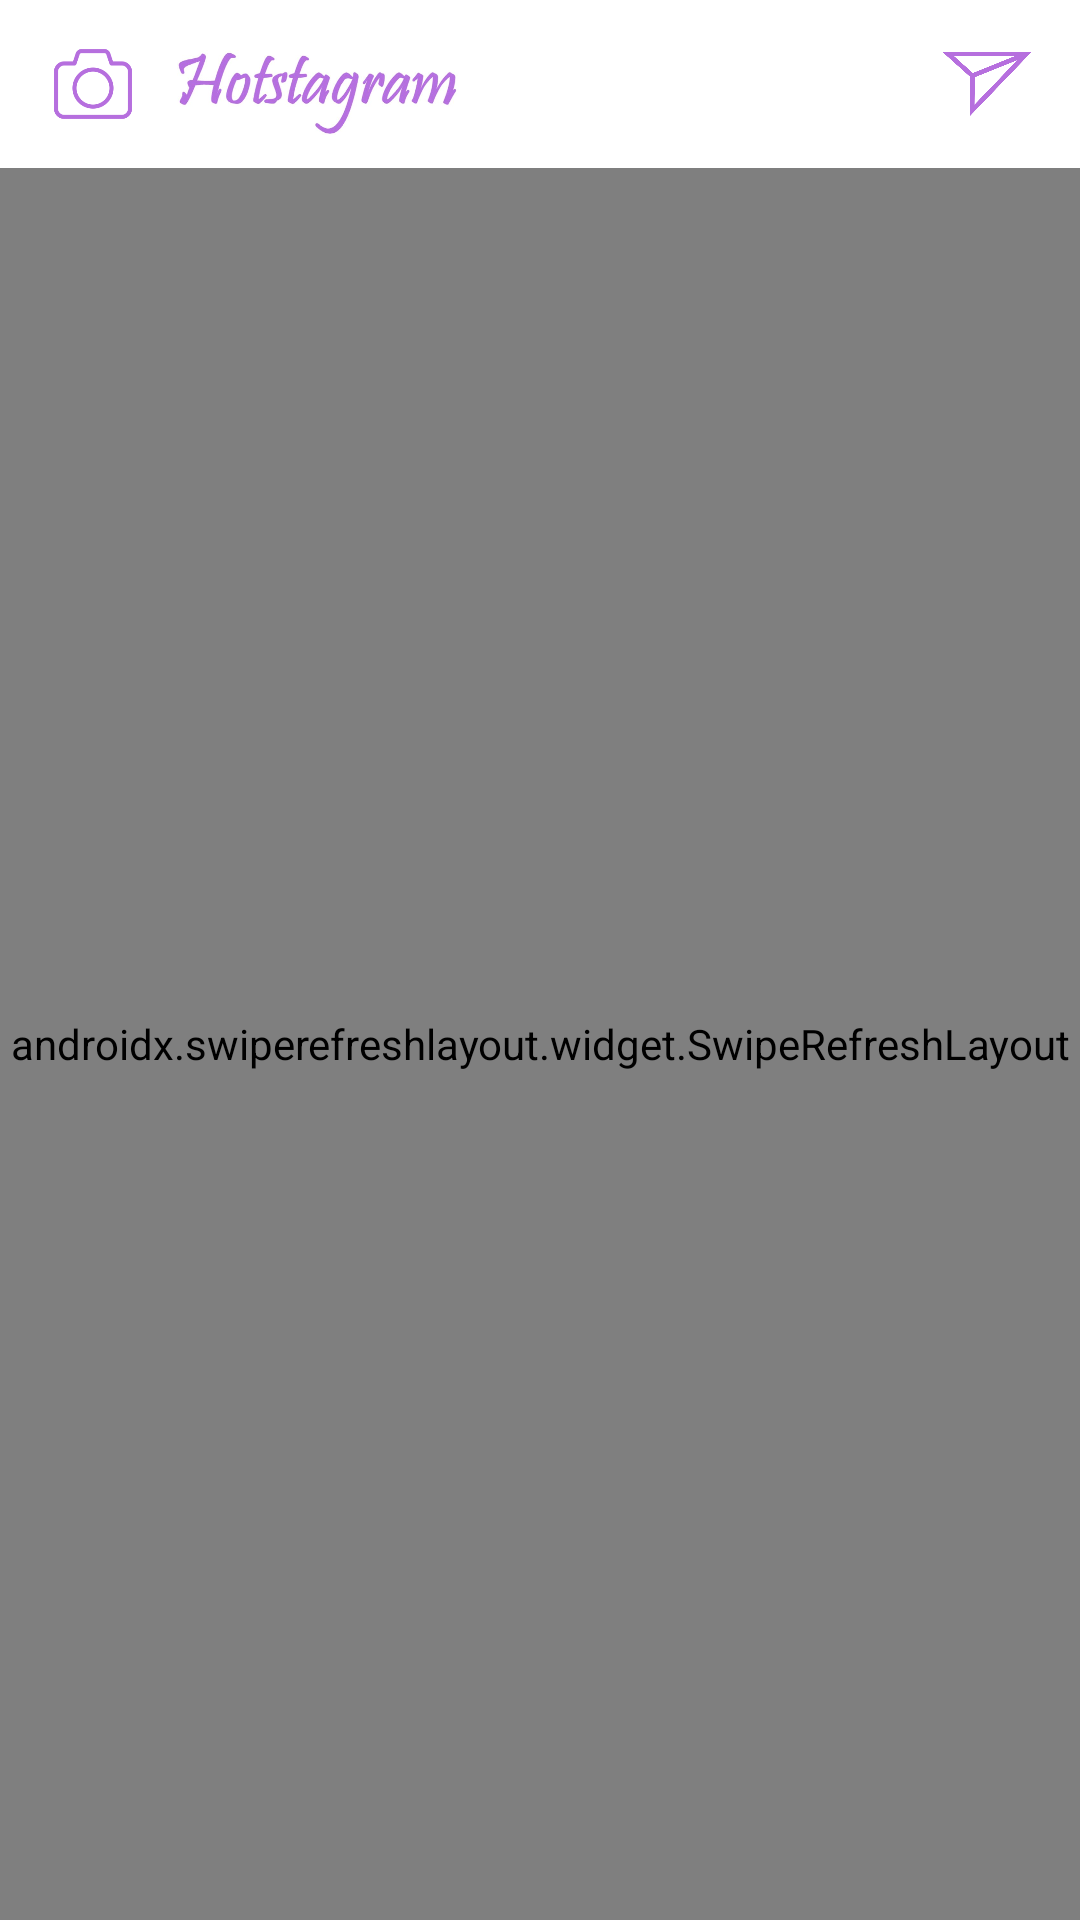

Where icons sit on this 1080×1920 app screen, as (x1,y1,x2,y2):
home direct: (943,52,1031,116)
